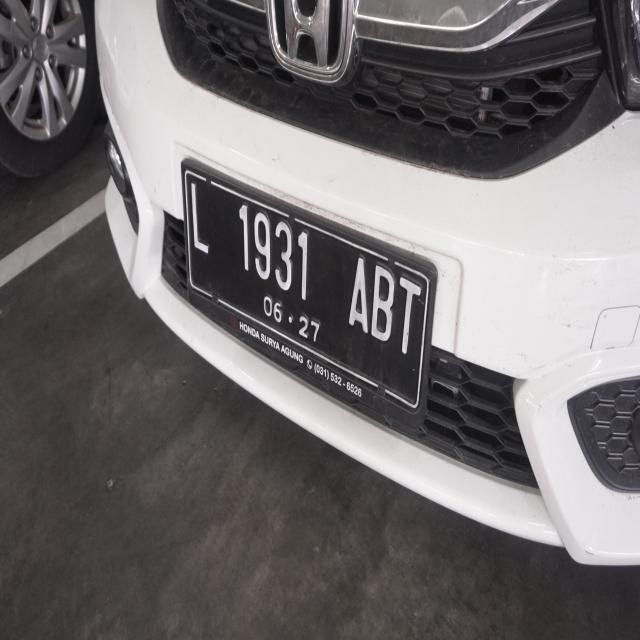1: (233, 202, 254, 276), (294, 228, 313, 308)
3: (272, 218, 294, 300)
9: (254, 202, 271, 284)
A: (348, 250, 369, 343)
B: (368, 258, 394, 348)
L: (187, 176, 210, 252)
T: (397, 273, 423, 357)
